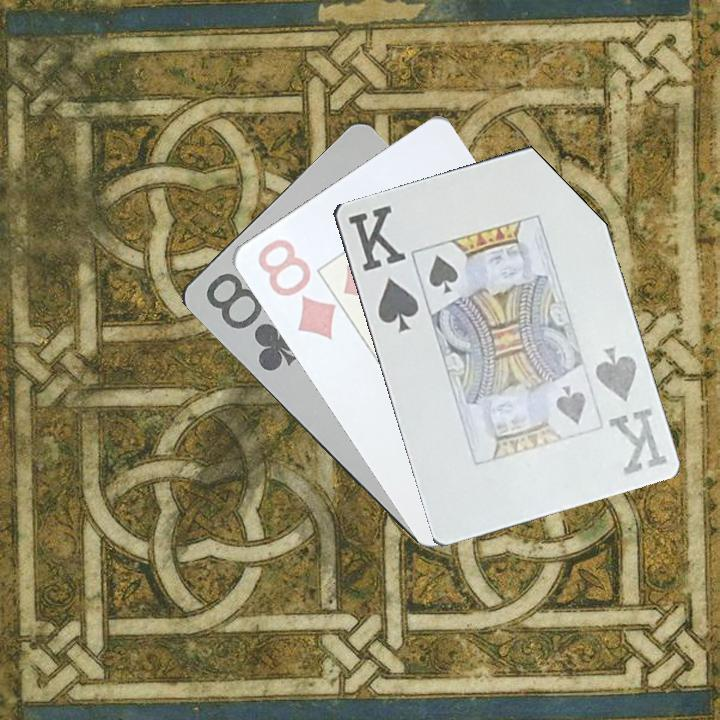8c: (199, 269, 305, 375)
8d: (253, 235, 338, 343)
Ks: (590, 343, 670, 478), (344, 201, 422, 336)
